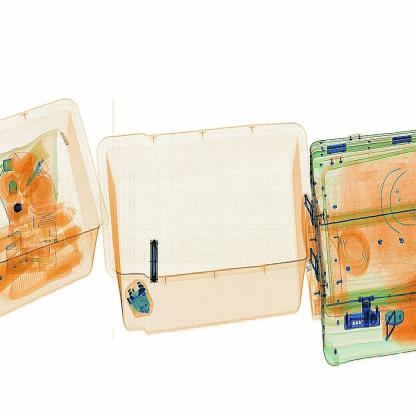scissors: (143, 230, 177, 288)
